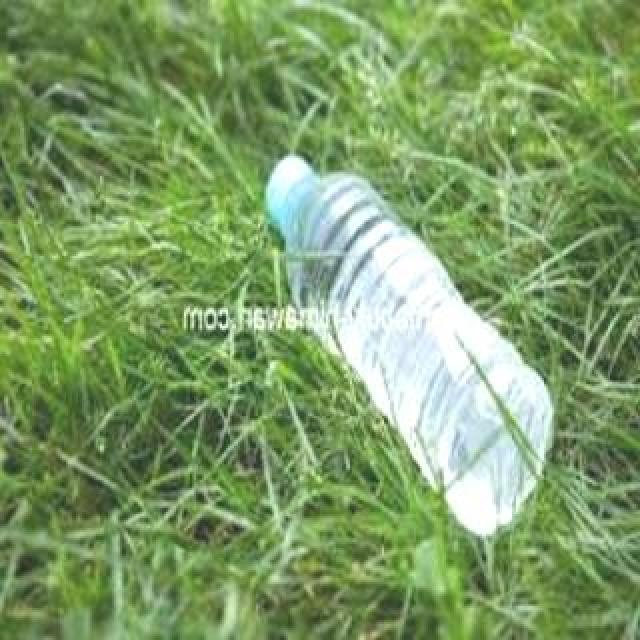Pet_Bottle: (264, 148, 554, 536)
